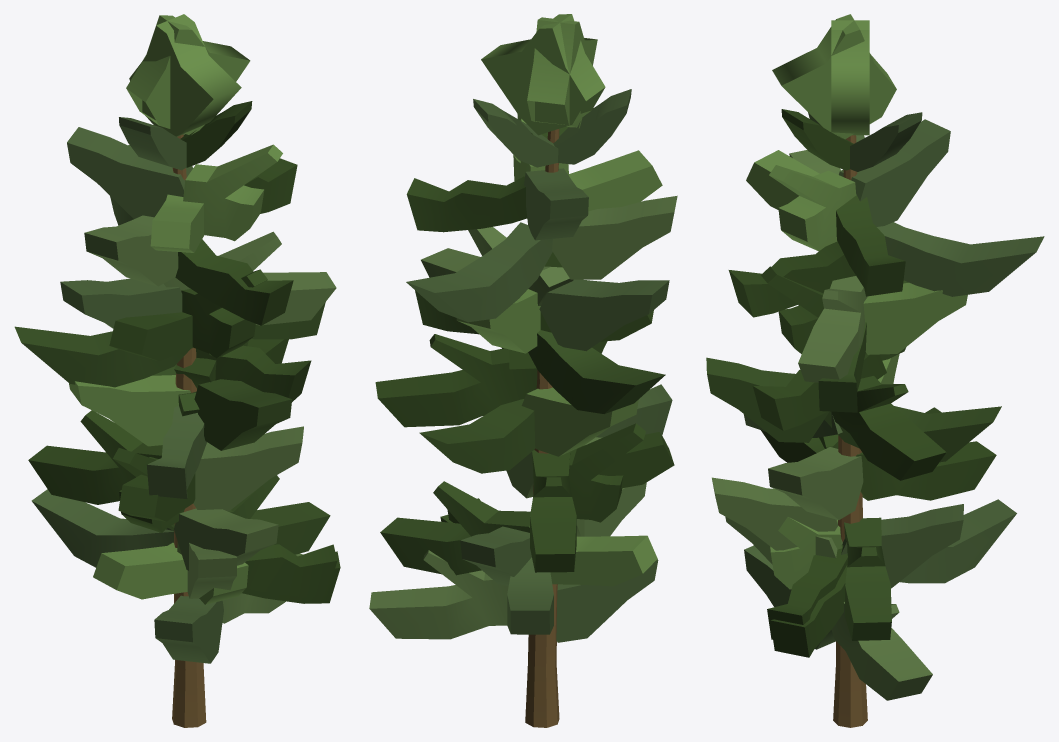
Rendered from Tree03.fbx.
3 views of the same model, side by side, from view 1: azimuth 30°, elevation 25°; view 2: azimuth 150°, elevation 25°; view 3: azimuth 270°, elevation 25° (orthographic).
Parts seen in each view (by area): view 1: Tree07; view 2: Tree07; view 3: Tree07.
Boxes of the visible parts, x1,y1,x2,y2 form: Tree07: (14, 14, 340, 727); Tree07: (369, 14, 677, 727); Tree07: (706, 14, 1044, 727).
Bounding box in the file's own units: 201 × 463 × 205.
